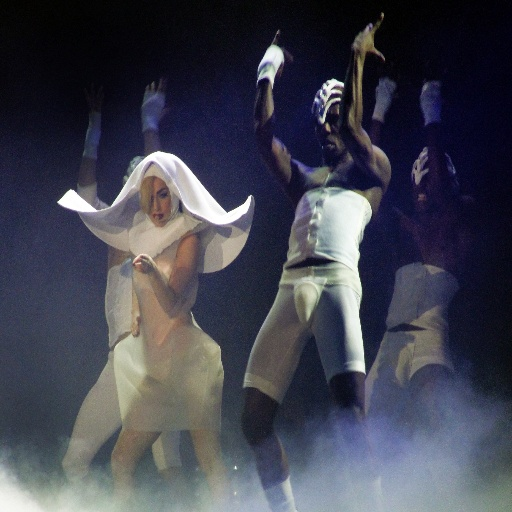hand: (351, 12, 388, 67), (261, 29, 295, 80), (139, 79, 171, 124), (418, 80, 444, 111), (82, 86, 106, 116), (375, 75, 396, 109), (129, 252, 154, 277), (128, 305, 141, 337)
